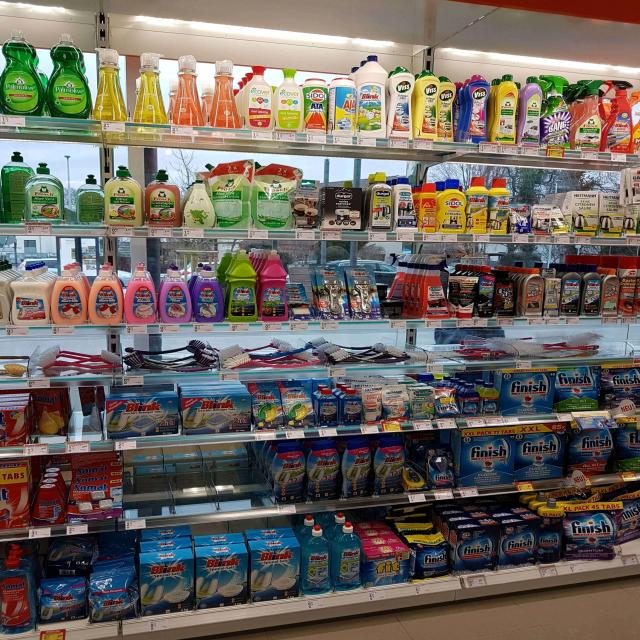empty_space: (135, 458, 261, 504)
